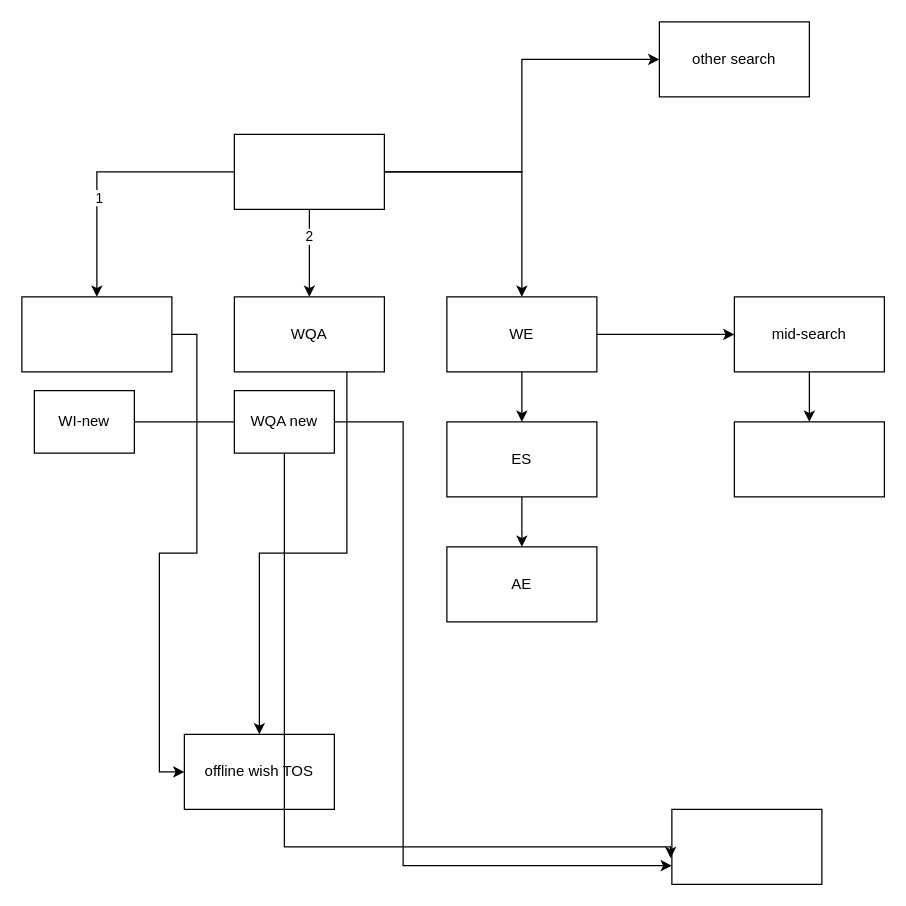
The diagram is 906 pixels wide and 906 high, and some of its shapes have lost their labels. Here are the shapes that lost their labels. From the top down, the centre of each, then its label:
the point at 308,171: SALA
the point at 96,334: WI
the point at 808,459: mid-ES
the point at 746,846: offline mid TOS
